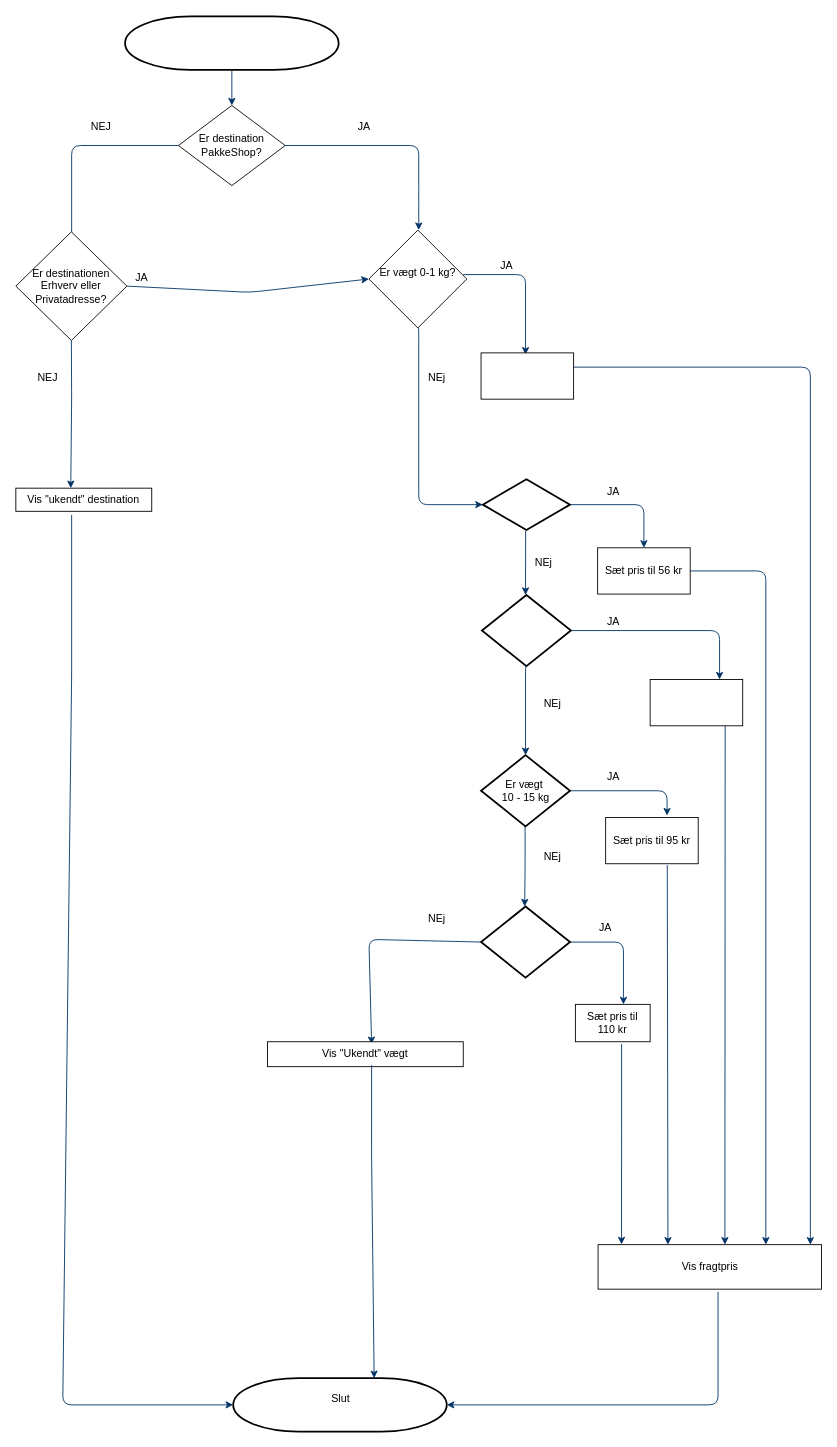
The diagram is 837 pixels wide and 1447 high, and some of its shapes have lost their labels. Here are the shapes that lost their labels. From the top down, the box of each, then its label:
(124, 15, 339, 70): start
(480, 352, 574, 399): Sæt pris til 46 kr
(481, 478, 570, 530): Er vægt 1 - 5 kg
(481, 594, 571, 667): Er vægt 5 - 10 kg
(649, 679, 743, 726): Sæt pris til 70 kr
(480, 905, 570, 978): Er vægt 15 - 20 kg
